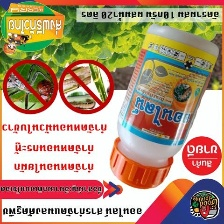insecticide: (106, 23, 220, 195)
